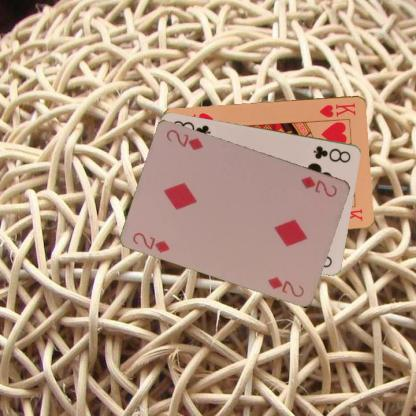2d: (298, 172, 339, 198), (130, 230, 172, 254)
8c: (311, 143, 352, 164)
Kh: (317, 100, 357, 118)
